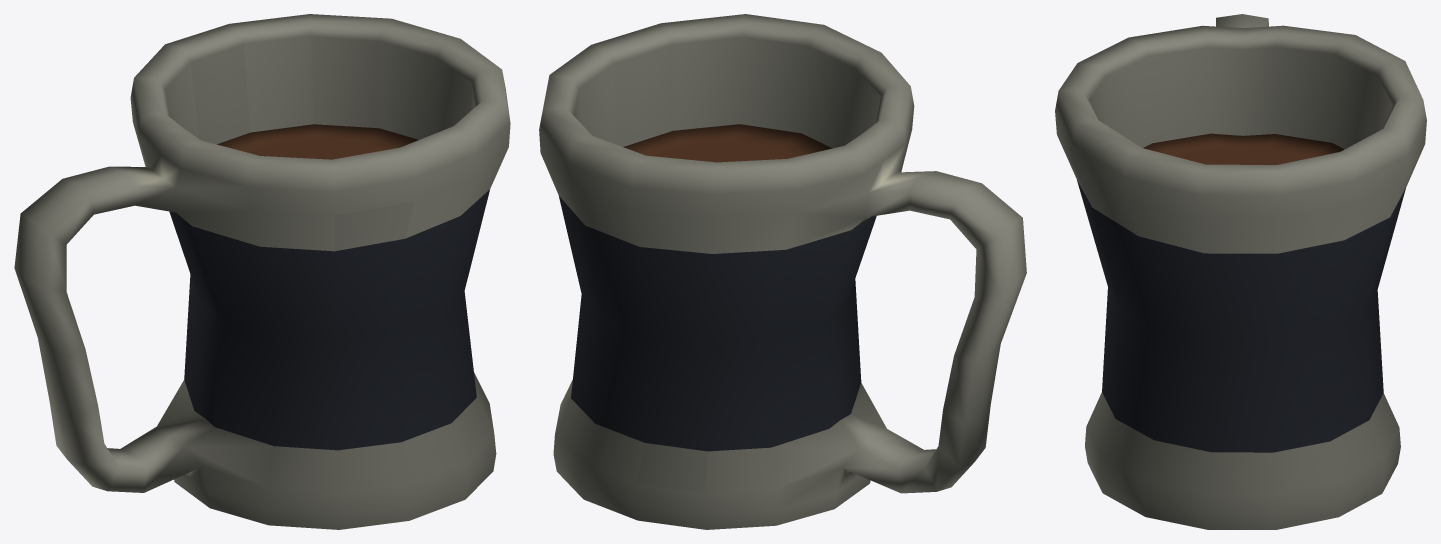
File: mug_01.fbx
3 renders of one model, left to right at view 1: azimuth 30°, elevation 25°; view 2: azimuth 150°, elevation 25°; view 3: azimuth 270°, elevation 25°, orthographic. The views are drawn at different scales.
Visible parts, largest first — view 1: mug01; view 2: mug01; view 3: mug01.
Part boxes in pixels (left/top/right/bottom): mug01: left=14, top=14, right=510, bottom=529; mug01: left=539, top=14, right=1026, bottom=529; mug01: left=1055, top=14, right=1426, bottom=529.
Bounding box in the file's own units: 204 × 161 × 148.
